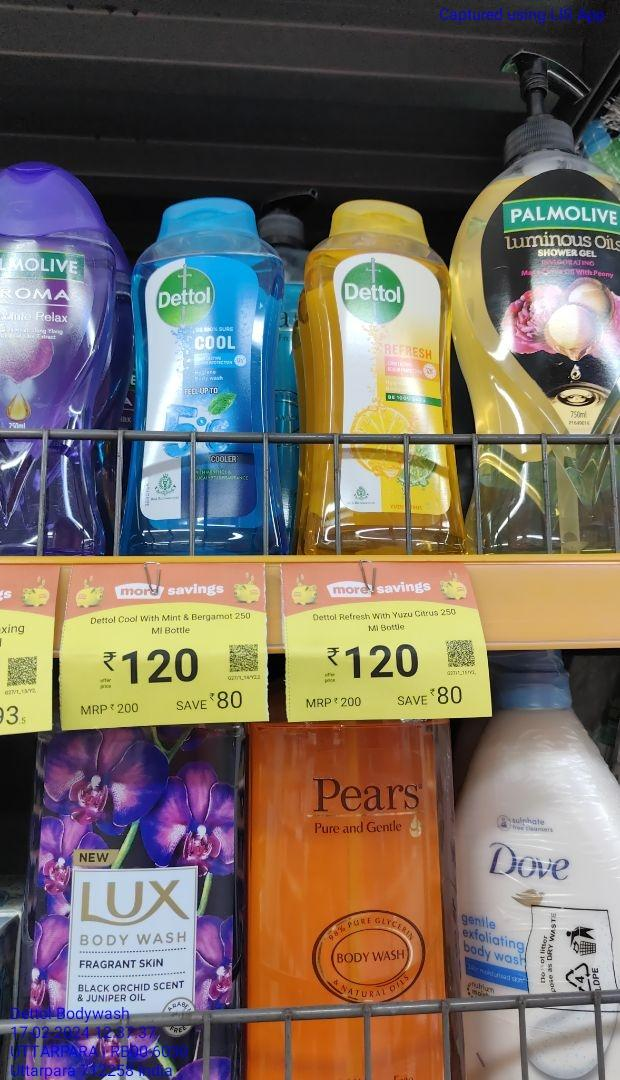Dettol_Bodywash_Cool: (125, 187, 286, 558)
Dettol_Bodywash_Refresh: (309, 199, 468, 560)
Dove_Gentle_Exfoliating_Body_Wash_250ML: (467, 644, 620, 1080)
Palmolive_Aroma_Relax_250ML: (0, 161, 111, 560)
